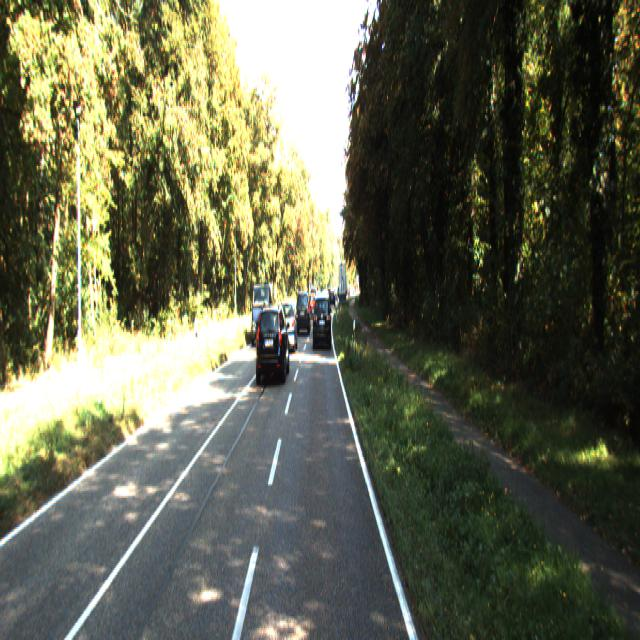Car: (255, 298, 290, 383), (251, 279, 275, 340), (278, 296, 298, 351), (313, 291, 331, 346), (296, 288, 310, 330)
